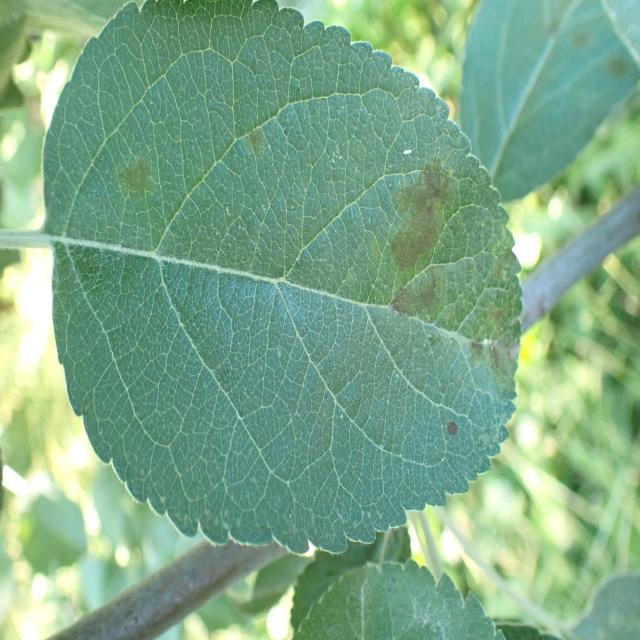scab: (90, 40, 531, 470)
